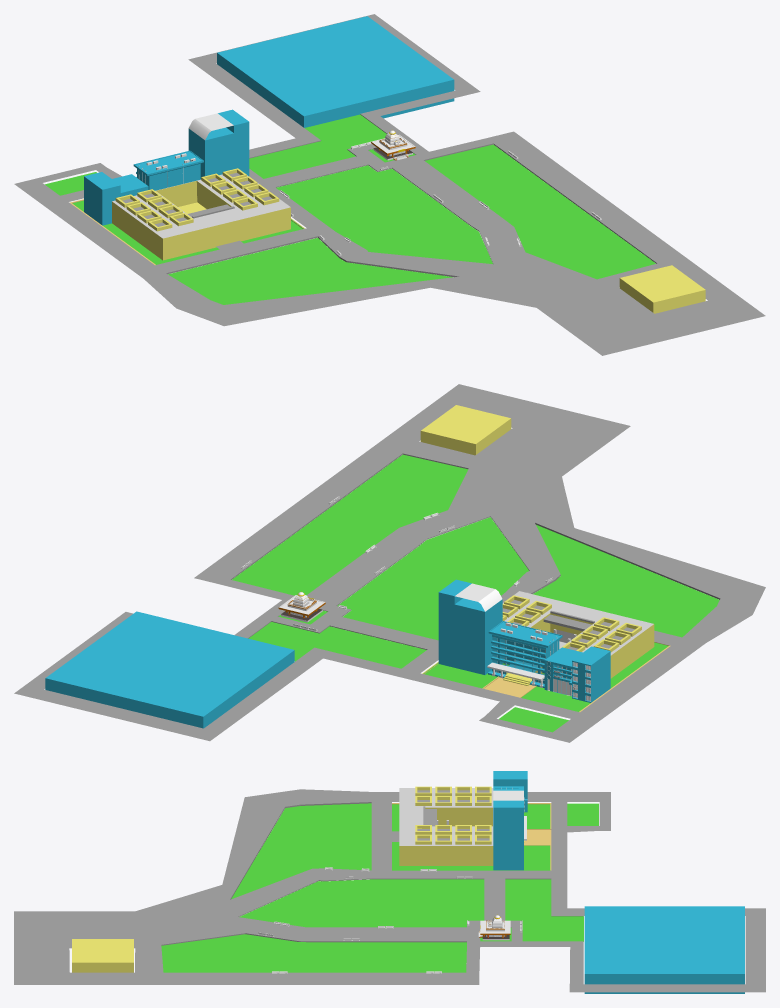
The model's file is compressed_withoutgrass.glb.
3 views of the same model, one above another, from view 1: azimuth 30°, elevation 25°; view 2: azimuth 150°, elevation 25°; view 3: azimuth 270°, elevation 25° (orthographic). The views are drawn at different scales.
Parts seen in each view (by area): view 1: Plane, Cube, spce, building on leftt all, watchmann, buidlingonrightsmall, mainbuilding, ground; view 2: Plane, Cube, spce, building on leftt all, mainbuilding, buidlingonrightsmall, ground, watchmann, Plane.001; view 3: Plane, Cube, spce, ground, building on leftt all, watchmann, Plane.001, buidlingonrightsmall.
Part boxes in pixels (x1=…): Plane: x1=14, y1=14, x2=765, y2=355; Cube: x1=217, y1=16, x2=454, y2=127; spce: x1=112, y1=168, x2=290, y2=260; building on leftt all: x1=188, y1=109, x2=249, y2=179; watchmann: x1=619, y1=265, x2=705, y2=313; buidlingonrightsmall: x1=84, y1=172, x2=148, y2=225; mainbuilding: x1=133, y1=150, x2=203, y2=190; ground: x1=70, y1=199, x2=304, y2=265; Plane: x1=14, y1=384, x2=765, y2=742; Cube: x1=45, y1=611, x2=294, y2=728; spce: x1=502, y1=591, x2=654, y2=678; building on leftt all: x1=438, y1=579, x2=502, y2=674; mainbuilding: x1=487, y1=621, x2=562, y2=687; buidlingonrightsmall: x1=544, y1=646, x2=610, y2=702; ground: x1=422, y1=642, x2=670, y2=712; watchmann: x1=420, y1=405, x2=511, y2=455; Plane.001: x1=499, y1=707, x2=568, y2=732; Plane: x1=14, y1=789, x2=765, y2=992; Cube: x1=584, y1=906, x2=744, y2=993; spce: x1=399, y1=786, x2=493, y2=865; ground: x1=392, y1=803, x2=551, y2=870; building on leftt all: x1=493, y1=790, x2=523, y2=870; watchmann: x1=72, y1=939, x2=133, y2=972; Plane.001: x1=567, y1=803, x2=598, y2=825; buidlingonrightsmall: x1=493, y1=771, x2=527, y2=812.
Size of the model in its own units: 542 by 89.37 by 849.
